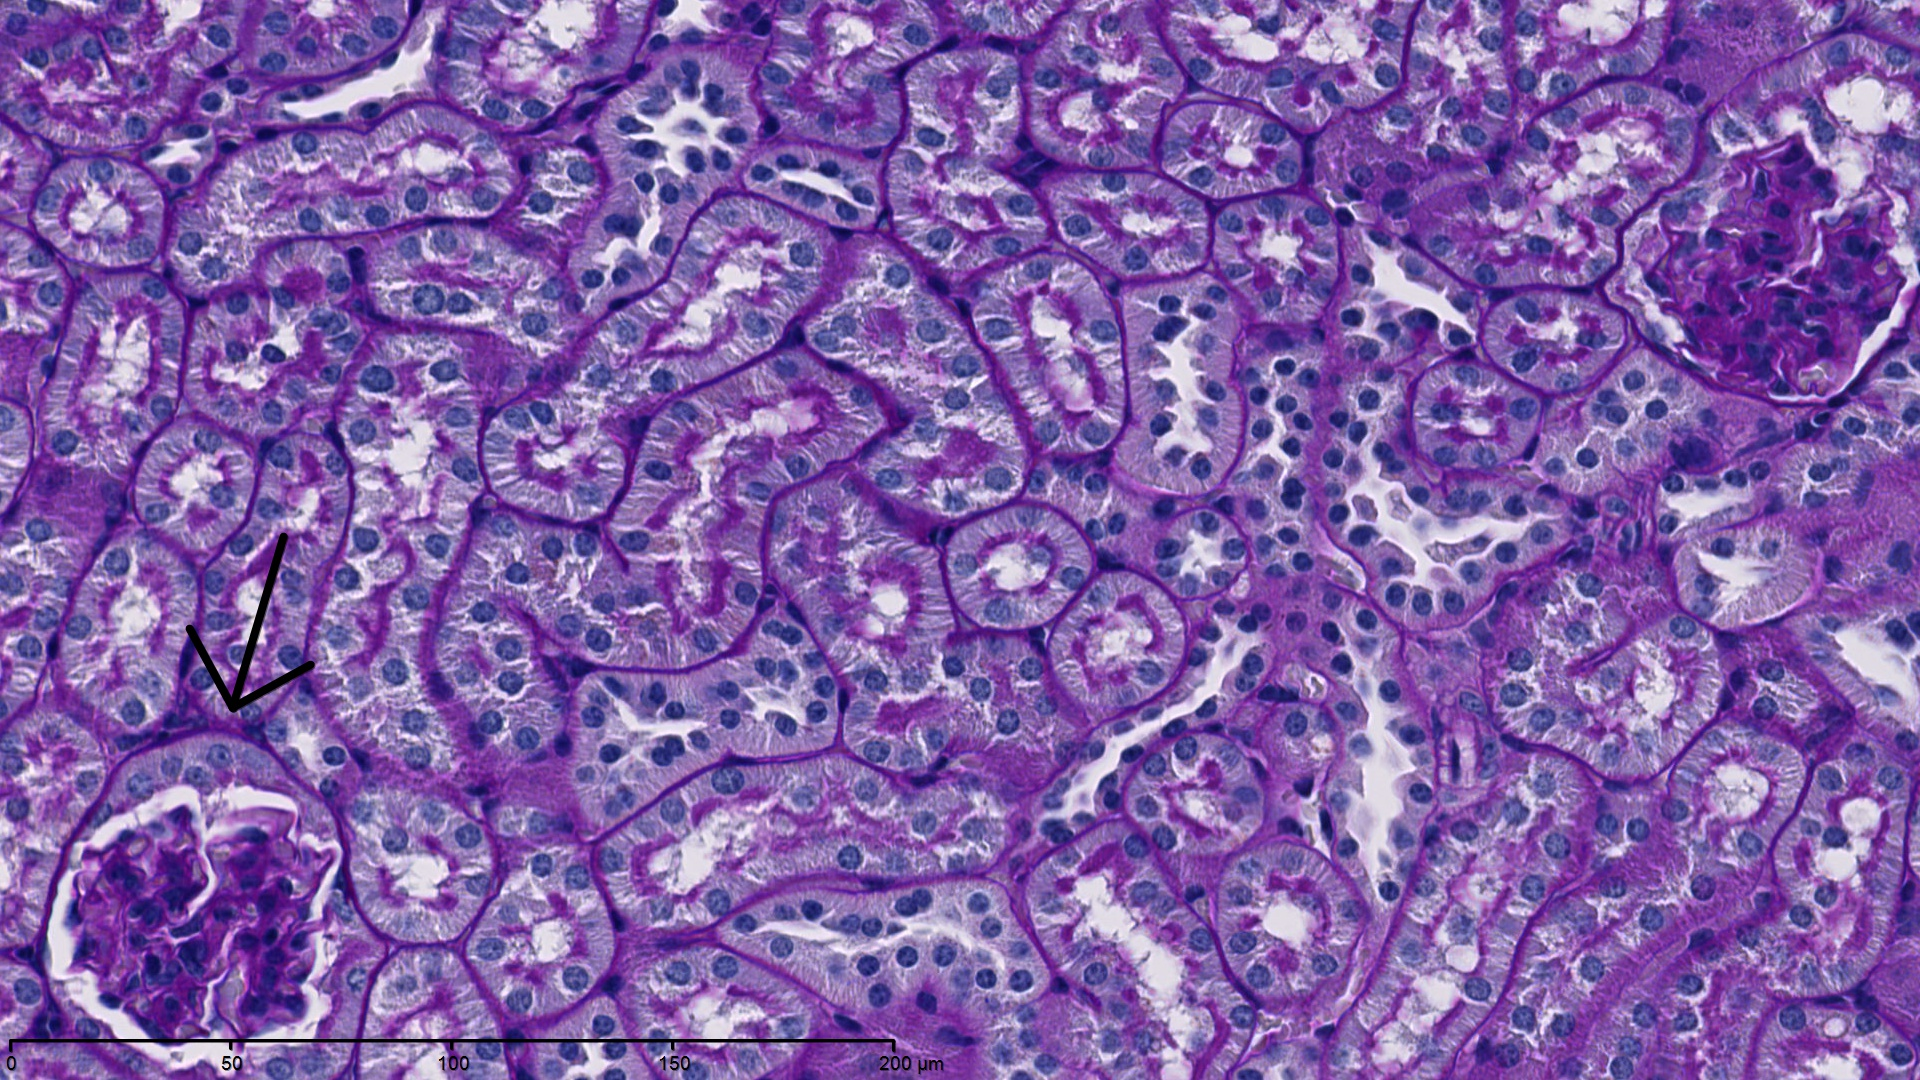Glomeruli: (40, 777, 338, 1036)
